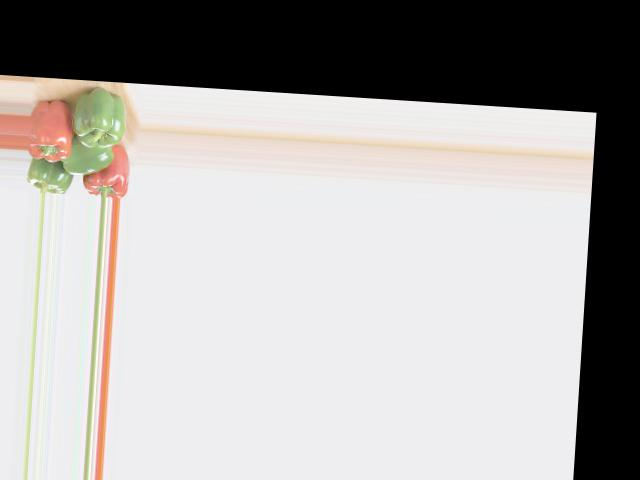bell_pepper: (27, 92, 77, 161)
